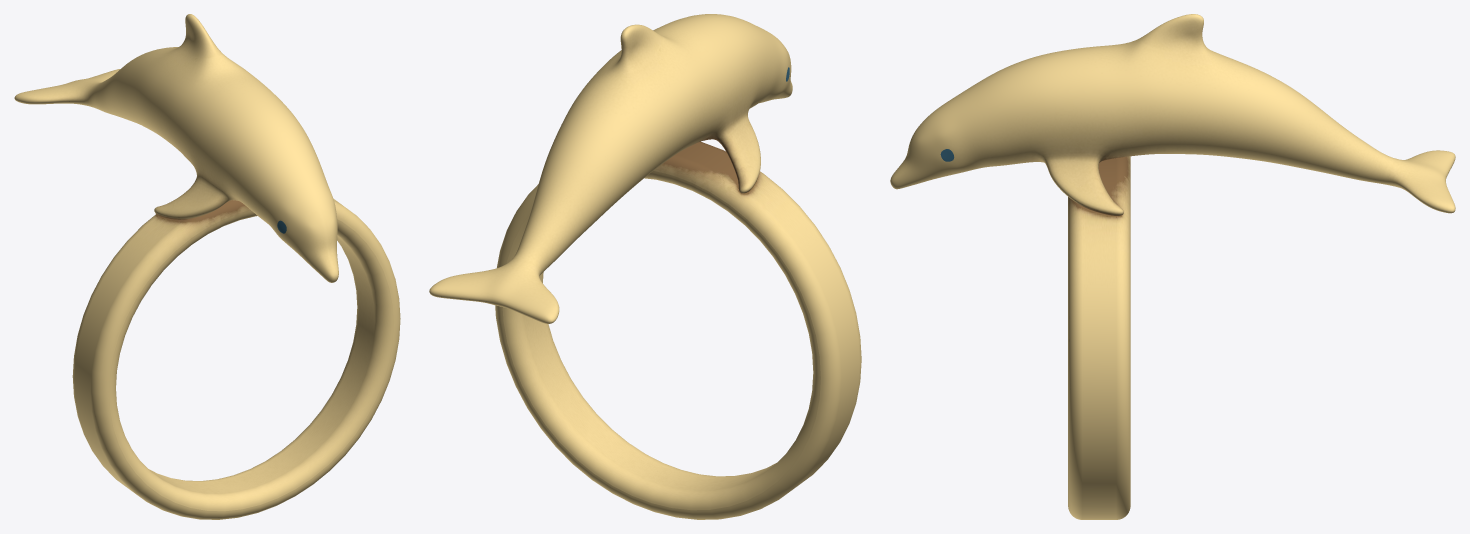
Rendered from nenya_galadriels_ring.glb.
3 renders of one model, left to right at view 1: azimuth 30°, elevation 25°; view 2: azimuth 150°, elevation 25°; view 3: azimuth 270°, elevation 25°, orthographic. The views are drawn at different scales.
Parts seen in each view (by area): view 1: pPipe1, Dolphin:dolphin; view 2: Dolphin:dolphin, pPipe1; view 3: Dolphin:dolphin, pPipe1.
Part boxes in pixels (x1,y1,x2,y2): pPipe1: [72, 198, 400, 519]; Dolphin:dolphin: [14, 14, 338, 282]; Dolphin:dolphin: [429, 14, 792, 323]; pPipe1: [495, 141, 861, 519]; Dolphin:dolphin: [890, 14, 1455, 215]; pPipe1: [1068, 156, 1130, 519].
Size of the model in its own units: 271 by 387 by 406.
Materials: 3 (3 with a texture image).
